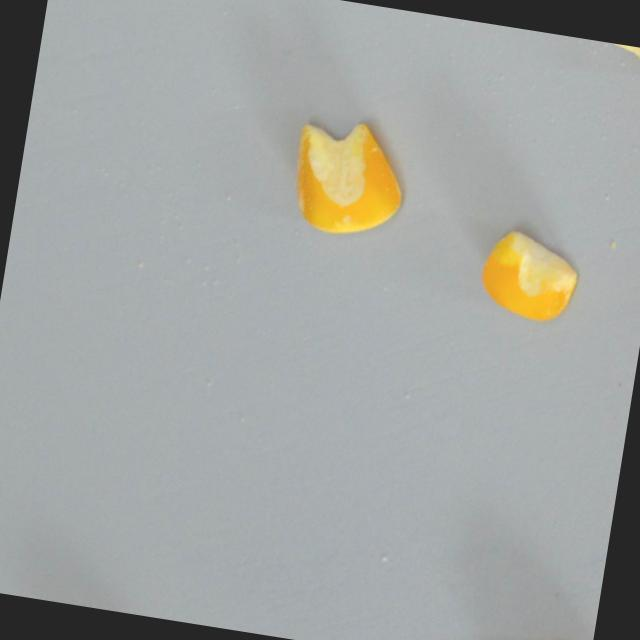no_canjicado: (474, 226, 583, 328)
pelicula: (284, 113, 410, 243), (592, 40, 640, 97)
